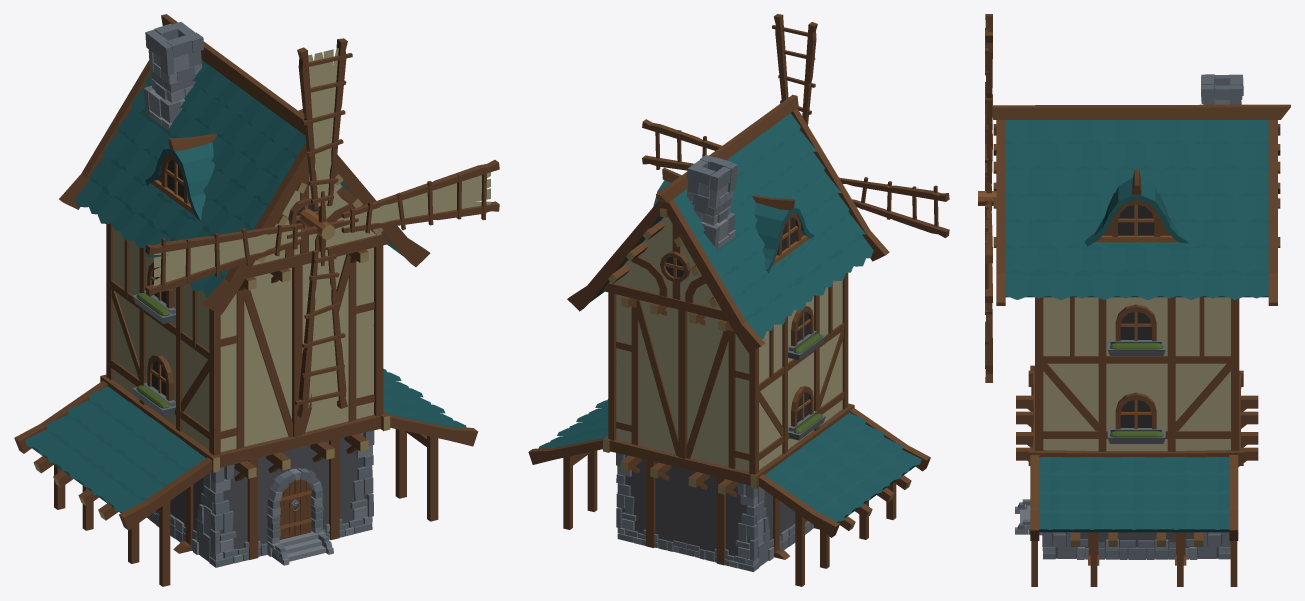
File: Mill.glb
The picture shows the model from 3 angles, left to right: view 1: azimuth 30°, elevation 25°; view 2: azimuth 150°, elevation 25°; view 3: azimuth 270°, elevation 25°; orthographic projection. The views are drawn at different scales.
Parts seen in each view (by area): view 1: Mill_Cube.128; view 2: Mill_Cube.128; view 3: Mill_Cube.128.
Part boxes in pixels (x1,y1,x2,y2): Mill_Cube.128: [14, 14, 499, 586]; Mill_Cube.128: [528, 14, 949, 586]; Mill_Cube.128: [978, 14, 1290, 586].
Bounding box in the file's own units: 3.4 × 4.8 × 2.73.
Materials: 1 (1 with a texture image).
